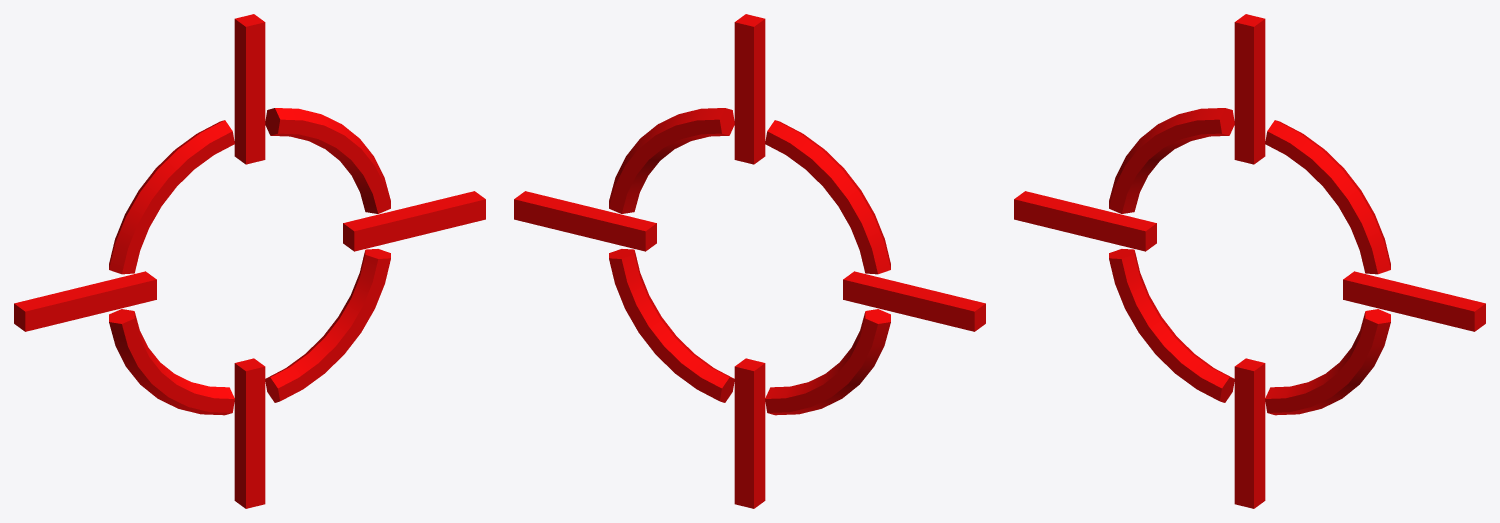
File: crosshair.obj
The picture shows the model from 3 angles, left to right: view 1: azimuth 30°, elevation 25°; view 2: azimuth 150°, elevation 25°; view 3: azimuth 330°, elevation 25°; orthographic projection.
Visible parts, largest first — view 1: pCube6; view 2: pCube6; view 3: pCube6.
Part boxes in pixels (<box>): pCube6: <box>14,14,485,508</box>; pCube6: <box>514,14,985,508</box>; pCube6: <box>1014,14,1485,508</box>.
Bounding box in the file's own units: 3.5 × 3.5 × 0.1714.
